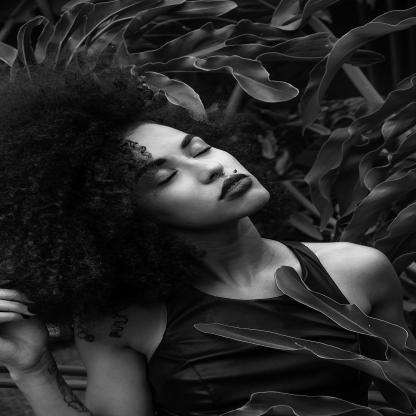Eye: (149, 166, 181, 189), (191, 142, 214, 159)
Mouth: (217, 173, 253, 201)
Nose: (183, 158, 225, 185)
